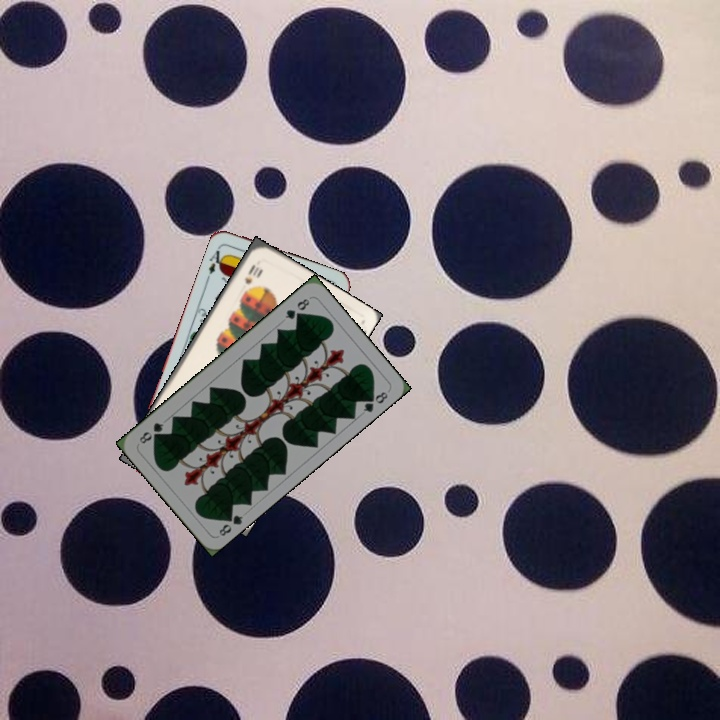EA: (204, 242, 228, 277)
G8: (215, 508, 246, 539), (281, 294, 312, 322)
S10: (240, 260, 261, 287)
